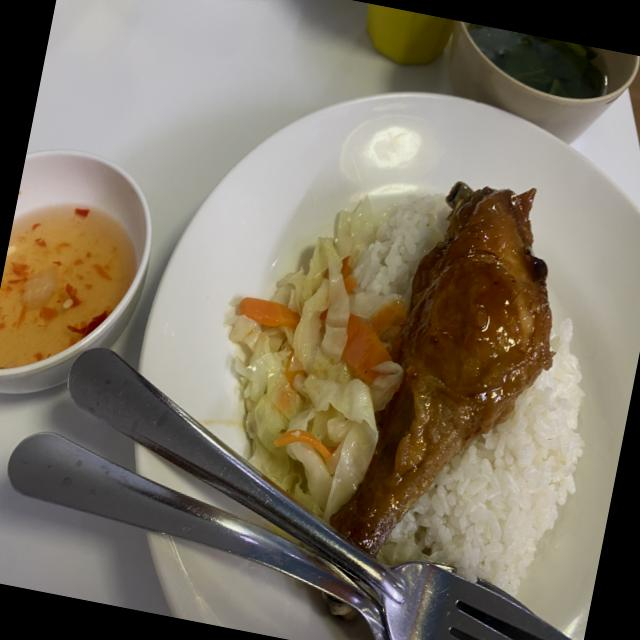bap cai xao: (226, 200, 406, 520)
com: (379, 318, 582, 593), (352, 194, 451, 306)
ga chien: (332, 188, 553, 554)
nuoc mam: (0, 206, 135, 369)
